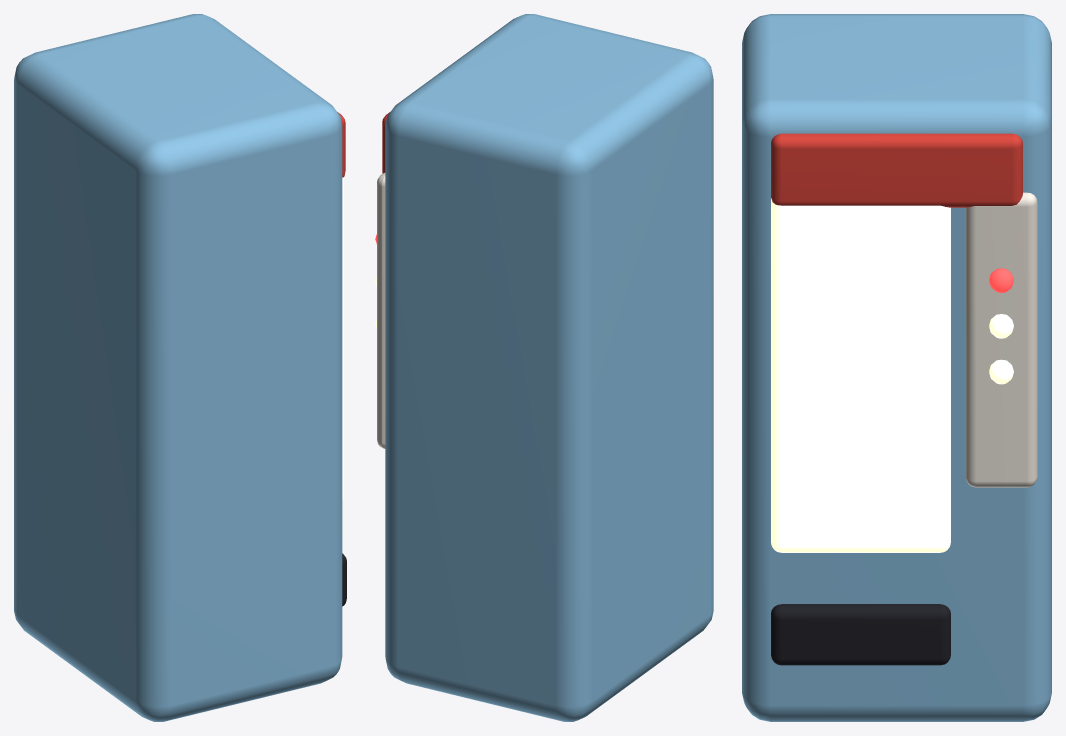
File: vending.glb
The picture shows the model from 3 angles, left to right: view 1: azimuth 30°, elevation 25°; view 2: azimuth 150°, elevation 25°; view 3: azimuth 270°, elevation 25°; orthographic projection. The views are drawn at different scales.
Parts seen in each view (by area): view 1: vending; view 2: vending; view 3: vending.
Boxes of the visible parts, x1,y1,x2,y2 form: vending: (14, 14, 346, 721); vending: (375, 14, 713, 721); vending: (742, 14, 1051, 721).
Bounding box in the file's own units: 0.7747 × 1.9 × 0.8601.
Materials: 1 (1 with a texture image).
